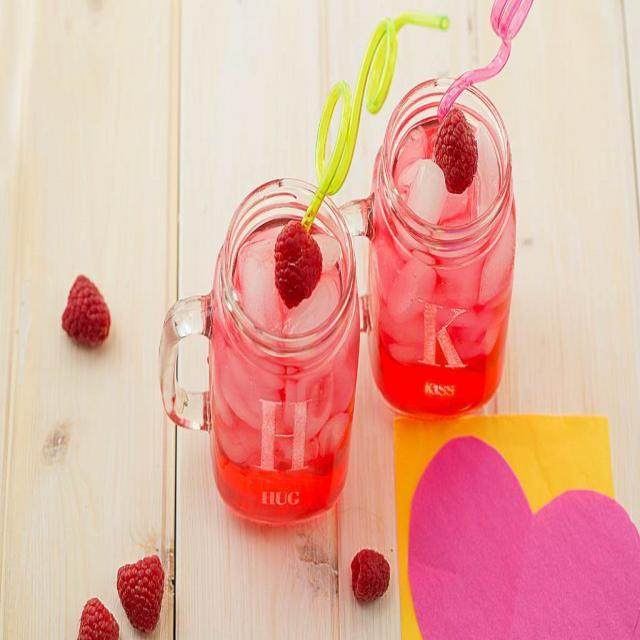Juice: (204, 219, 358, 527), (369, 126, 518, 435)
